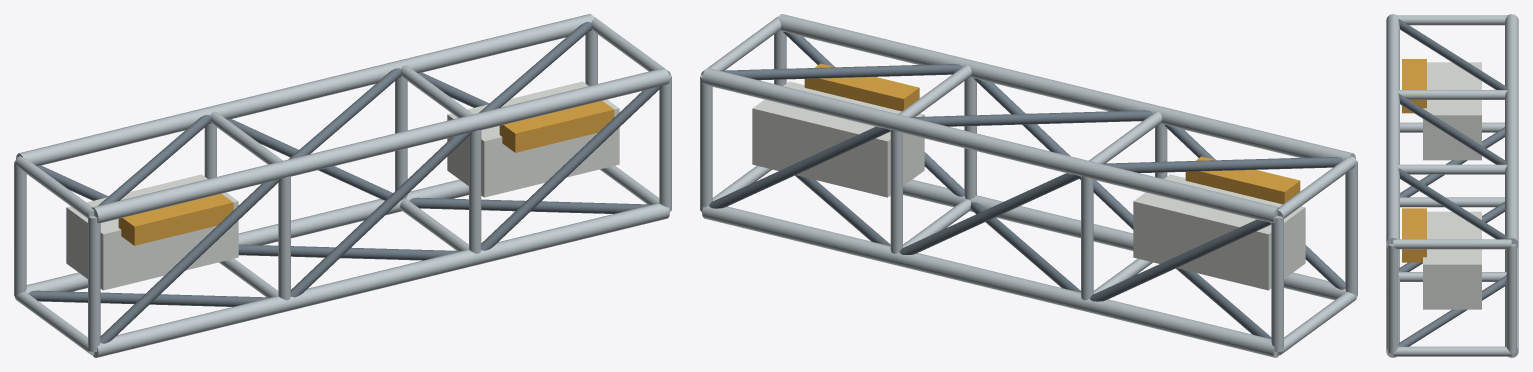
The model's file is iss_truss.s5.glb.
3 renders of one model, left to right at view 1: azimuth 30°, elevation 25°; view 2: azimuth 150°, elevation 25°; view 3: azimuth 270°, elevation 25°, orthographic. The views are drawn at different scales.
Visible parts, largest first — view 1: iss_truss.s5.mesh_Satin_aluminum, iss_truss.s5.mesh_Machined_steel, iss_truss.s5.mesh_Pale_thermal_blanket, iss_truss.s5.mesh_Gold_thermal_insulation; view 2: iss_truss.s5.mesh_Satin_aluminum, iss_truss.s5.mesh_Machined_steel, iss_truss.s5.mesh_Pale_thermal_blanket, iss_truss.s5.mesh_Gold_thermal_insulation; view 3: iss_truss.s5.mesh_Satin_aluminum, iss_truss.s5.mesh_Pale_thermal_blanket, iss_truss.s5.mesh_Machined_steel, iss_truss.s5.mesh_Gold_thermal_insulation.
Part boxes in pixels (bbox=[...]): iss_truss.s5.mesh_Satin_aluminum: bbox=[14, 14, 671, 357]; iss_truss.s5.mesh_Machined_steel: bbox=[28, 22, 662, 343]; iss_truss.s5.mesh_Pale_thermal_blanket: bbox=[66, 81, 619, 290]; iss_truss.s5.mesh_Gold_thermal_insulation: bbox=[118, 100, 614, 245]; iss_truss.s5.mesh_Satin_aluminum: bbox=[700, 14, 1357, 357]; iss_truss.s5.mesh_Machined_steel: bbox=[709, 32, 1345, 338]; iss_truss.s5.mesh_Pale_thermal_blanket: bbox=[752, 81, 1305, 290]; iss_truss.s5.mesh_Gold_thermal_insulation: bbox=[804, 63, 1300, 204]; iss_truss.s5.mesh_Satin_aluminum: bbox=[1386, 14, 1518, 357]; iss_truss.s5.mesh_Pale_thermal_blanket: bbox=[1423, 62, 1481, 309]; iss_truss.s5.mesh_Machined_steel: bbox=[1398, 19, 1506, 346]; iss_truss.s5.mesh_Gold_thermal_insulation: bbox=[1402, 59, 1426, 262].
Size of the model in its own units: 8.56 by 2.1 by 2.1.
